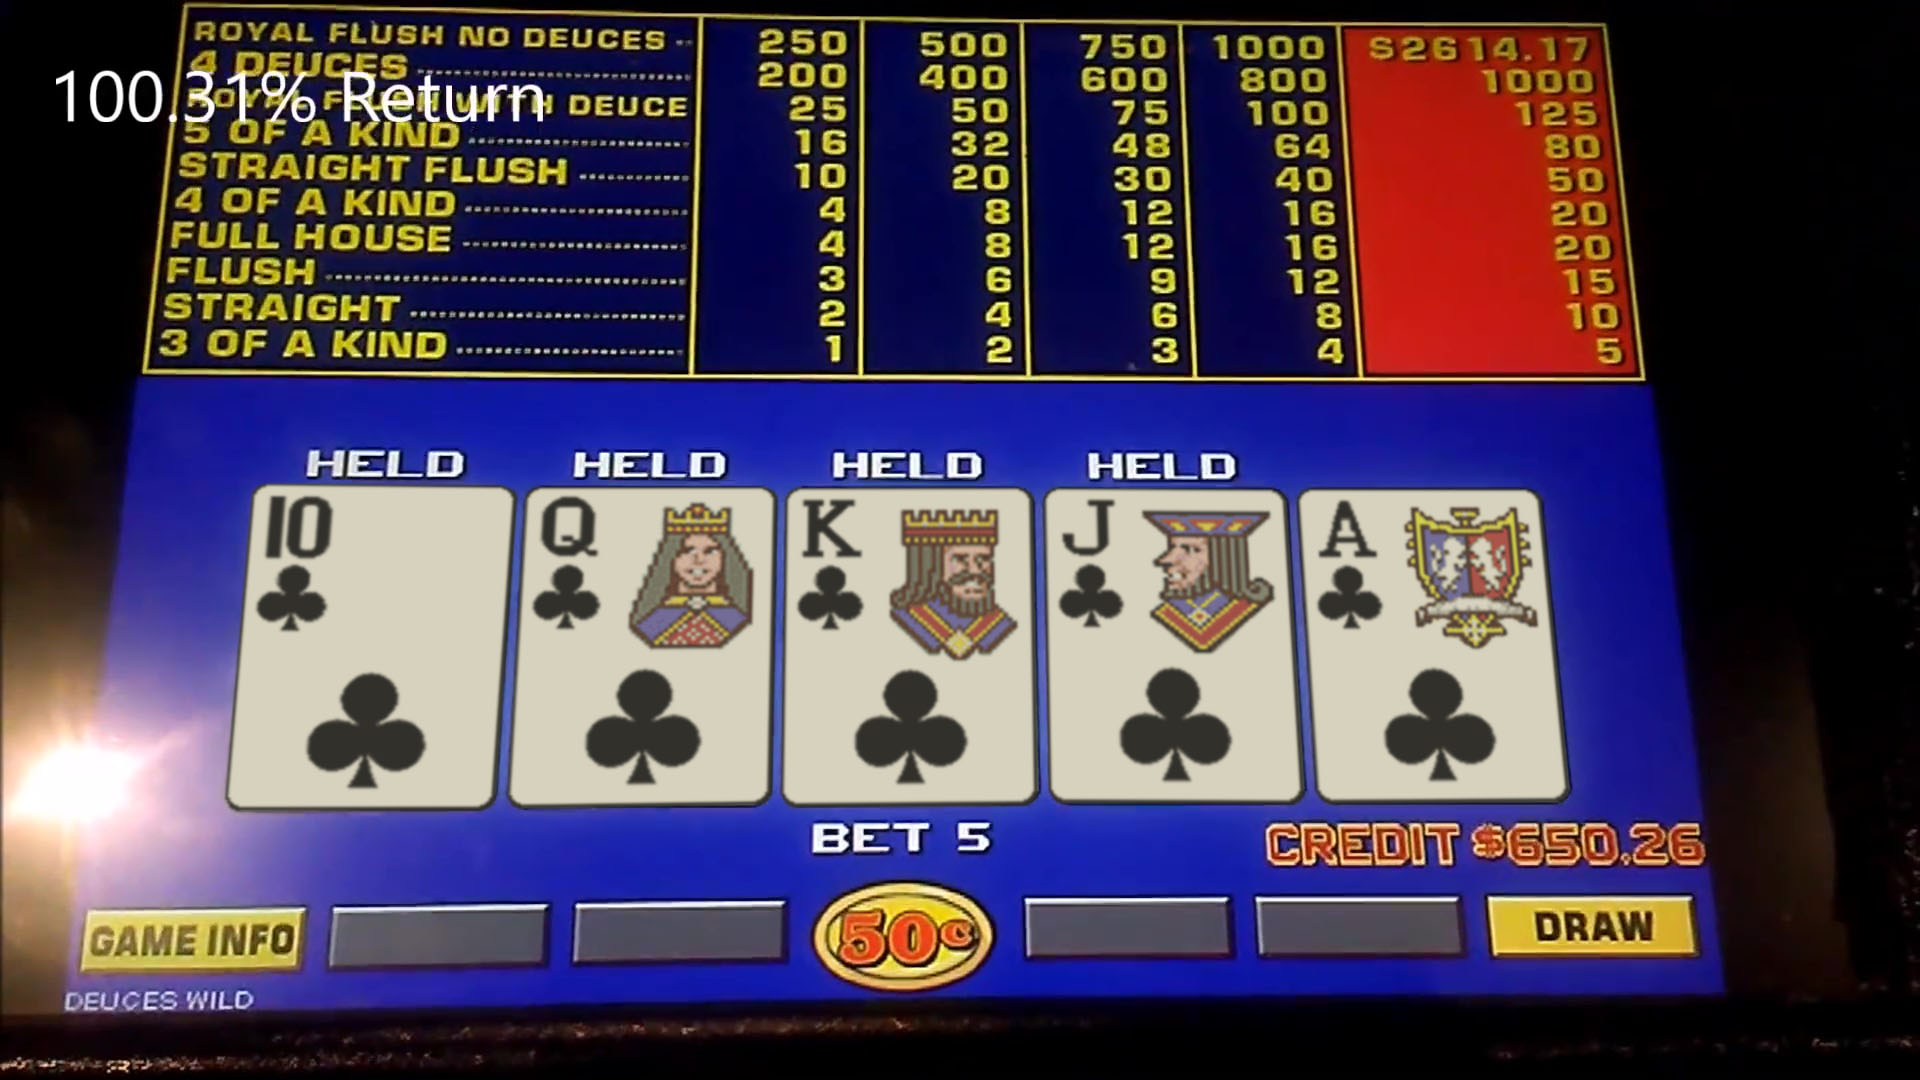CA: (1313, 492, 1549, 802)
CJ: (1048, 492, 1290, 800)
CK: (786, 489, 1035, 803)
CQ: (517, 491, 764, 802)
CT: (247, 487, 498, 808)
